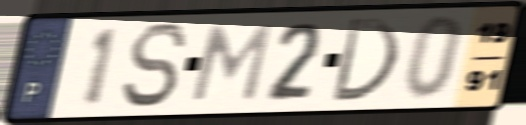0: (397, 12, 469, 104)
1: (83, 24, 120, 111)
2: (262, 20, 324, 102)
D: (327, 16, 402, 105)
M: (186, 21, 276, 104)
S: (118, 20, 191, 111)
